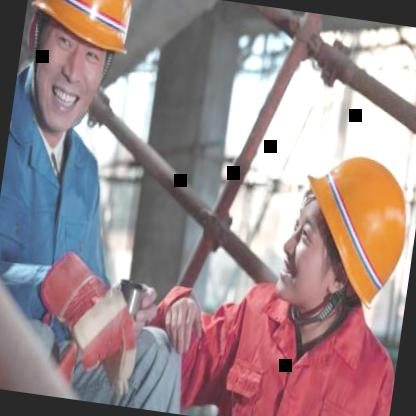helmet: (259, 118, 416, 360), (9, 0, 141, 146)
